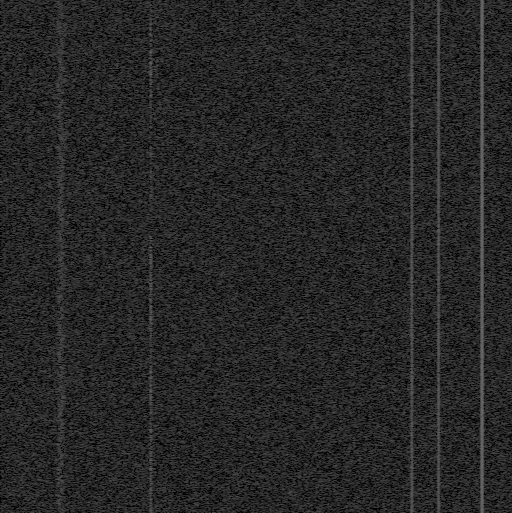wv_am: (409, 0, 414, 513)
wv_cw: (479, 0, 485, 513), (436, 0, 441, 513)
wv_usb: (148, 235, 154, 450), (148, 2, 153, 119), (148, 451, 153, 486), (148, 487, 153, 513), (148, 183, 153, 208), (148, 159, 153, 182), (148, 136, 153, 158), (148, 126, 153, 130), (149, 120, 153, 125), (149, 225, 152, 231), (149, 131, 153, 135), (149, 214, 152, 218), (149, 209, 153, 212)
wv_wbfm: (51, 0, 71, 513)
